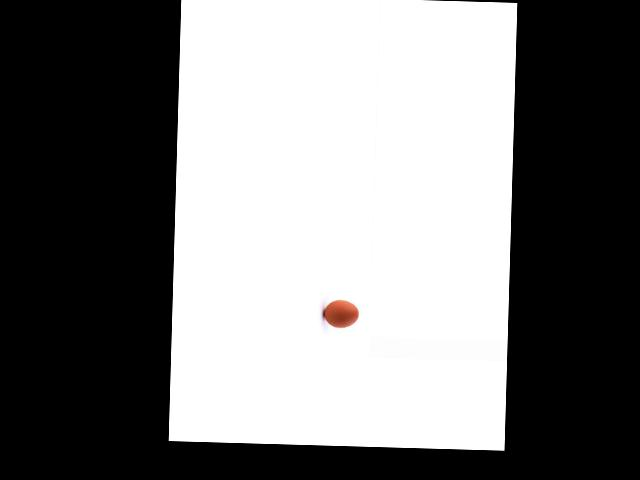egg: (323, 300, 359, 329)
